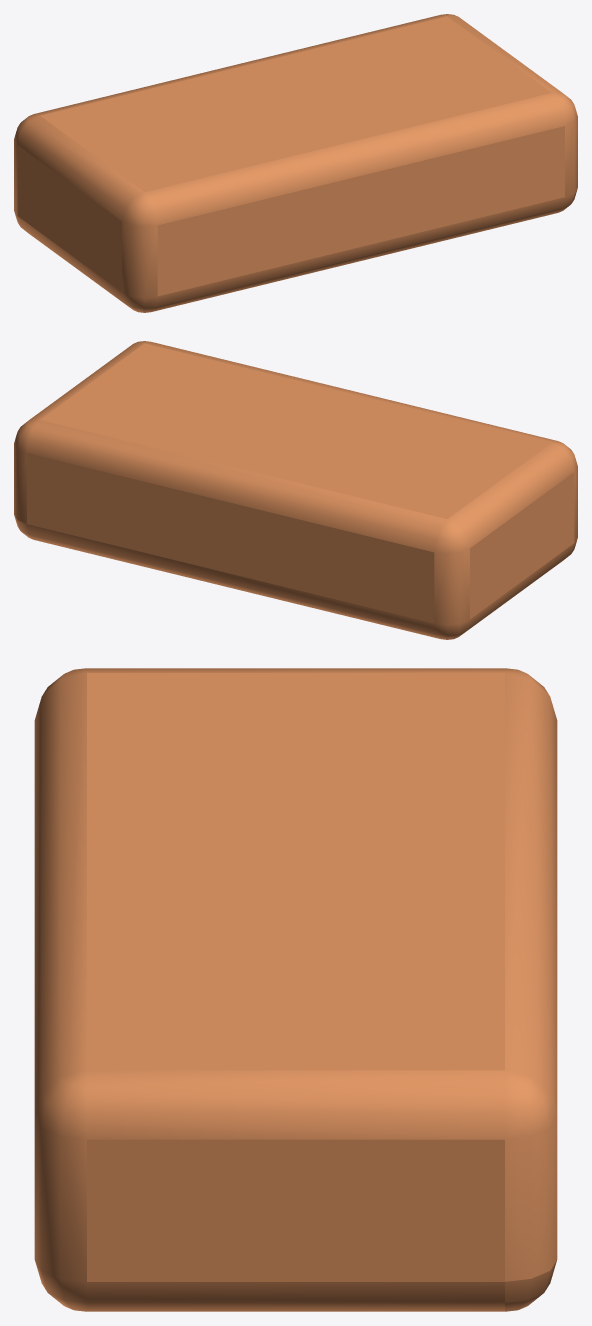
File: blockRoundedLowLong.fbx
3 renders of one model, top to bottom at view 1: azimuth 30°, elevation 25°; view 2: azimuth 150°, elevation 25°; view 3: azimuth 270°, elevation 25°, orthographic. The views are drawn at different scales.
Parts seen in each view (by area): view 1: blockRoundedLowLong; view 2: blockRoundedLowLong; view 3: blockRoundedLowLong.
Part boxes in pixels (x1,y1,x2,y2): blockRoundedLowLong: [14, 14, 577, 312]; blockRoundedLowLong: [14, 341, 577, 639]; blockRoundedLowLong: [34, 668, 557, 1311].
Bounding box in the file's own units: 20 × 5 × 10.
